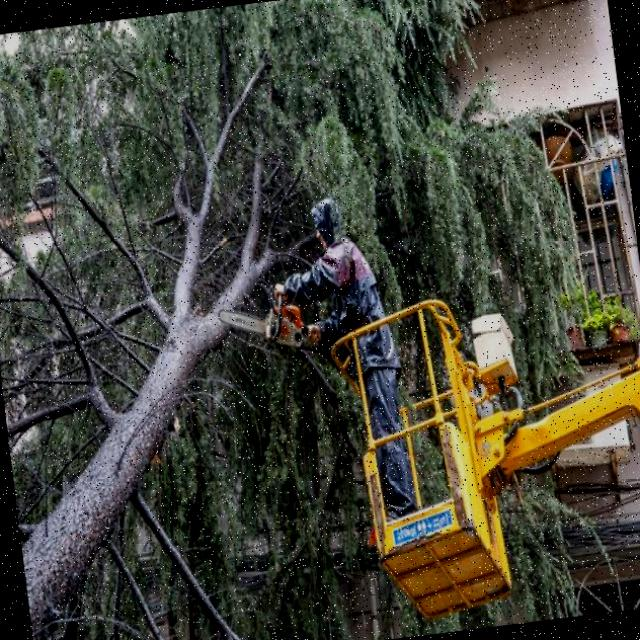fallen_object: (0, 46, 398, 638)
